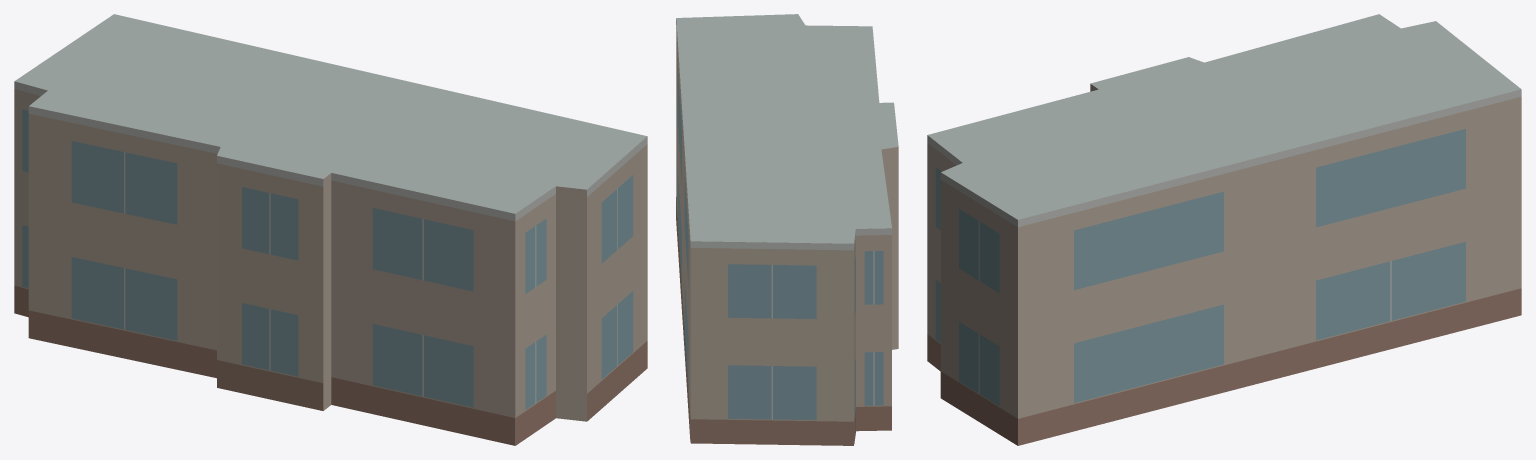
Rendered from survey-upis-32992845.glb.
3 views of the same model, side by side, from view 1: azimuth 30°, elevation 25°; view 2: azimuth 150°, elevation 25°; view 3: azimuth 270°, elevation 25° (orthographic). The views are drawn at different scales.
Visible parts, largest first — view 1: survey-upis-32992845.tmp; view 2: survey-upis-32992845.tmp; view 3: survey-upis-32992845.tmp.
Part boxes in pixels (bbox=[...]): survey-upis-32992845.tmp: bbox=[14, 14, 647, 445]; survey-upis-32992845.tmp: bbox=[676, 14, 898, 445]; survey-upis-32992845.tmp: bbox=[927, 14, 1521, 445].
Size of the model in its own units: 14.67 by 7.5 by 17.89.
